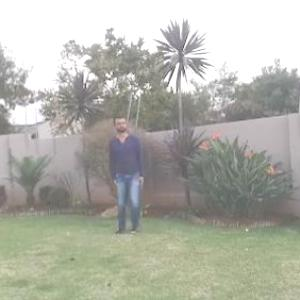follow: (110, 111, 146, 237)
